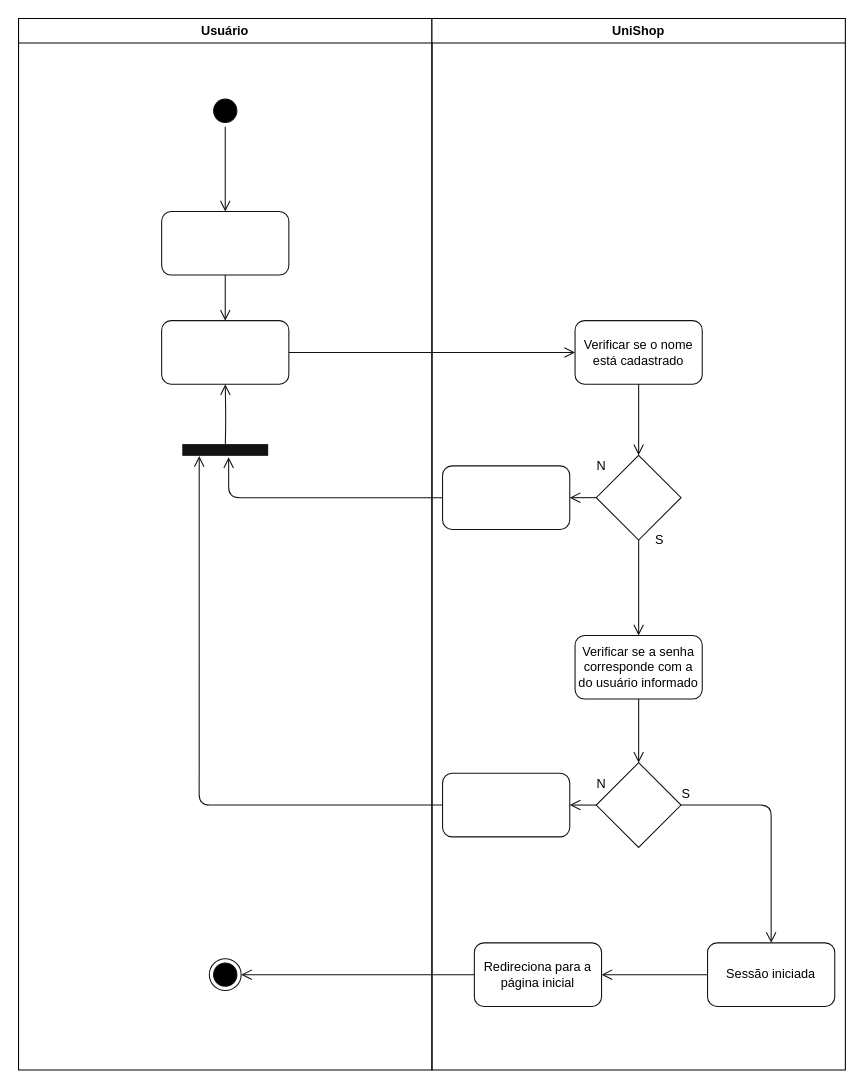
Some shapes in this 864 by 1089 pixel diagram are drawn without their labels. The shapes that lost their labels are listed below. From the top down, each one's centre as x and y in pixels, then its label:
At (x=225, y=242): "Acessar a URL do sistema".
At (x=225, y=352): "Preencher os campos de usuário e senha".
At (x=505, y=497): "Alertar ao usuário que o nome não existe".
At (x=505, y=804): "Alertar ao usuário que a senha está incorreta".
